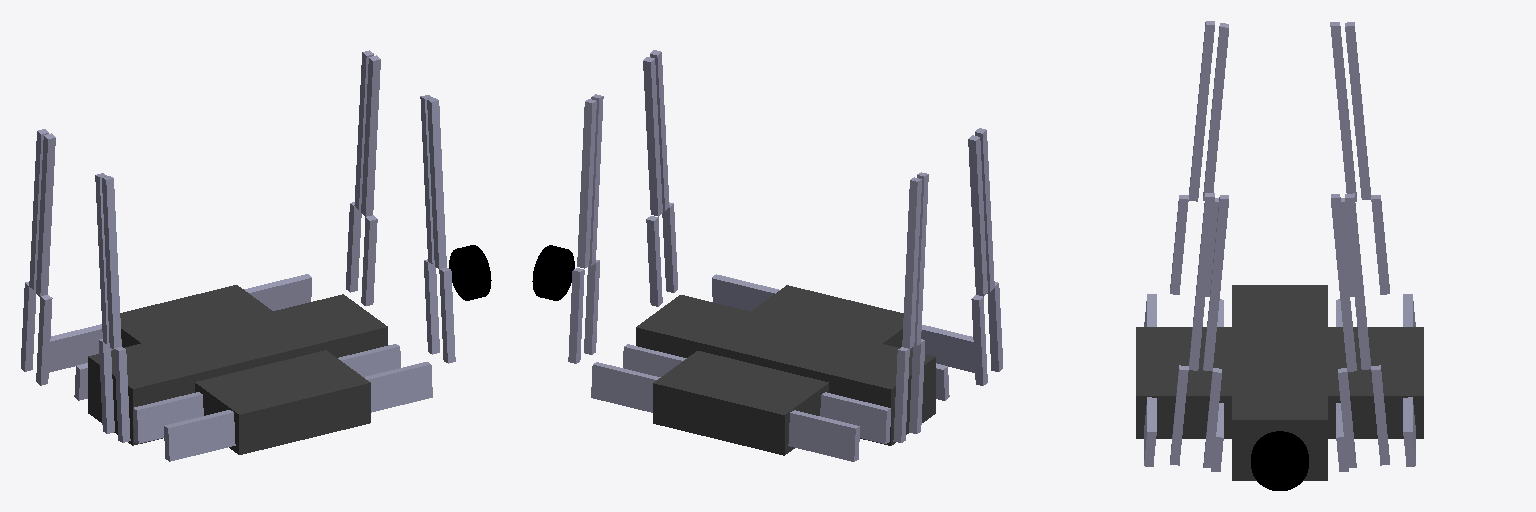
--- What the picture shows (computed from the rendered views, not written in the file) ---
Views: 3 orthographic renders of the robot side by side, from view 1: azimuth 30°, elevation 25°; view 2: azimuth 150°, elevation 25°; view 3: azimuth 270°, elevation 25°.
Robot: quadruped — 28 links, 27 joints (8 revolute, 8 continuous, 11 fixed); root link base_chassis_link; default pose: all joints at 0.
Links seen in each view (by area): view 1: base_chassis_link, chassis_right, chassis_left, lower_leg_back_rightR_link, lower_leg_front_rightR_link, lower_leg_back_leftR_link, lower_leg_front_leftR_link, eyes, upper_leg_front_rightR_link, upper_leg_back_rightR_link, lower_leg_back_leftL_link, lower_leg_front_leftL_link (+8 smaller); view 2: base_chassis_link, chassis_left, chassis_right, lower_leg_back_leftL_link, lower_leg_front_leftL_link, lower_leg_back_rightL_link, lower_leg_front_rightL_link, eyes, lower_leg_back_rightR_link, upper_leg_front_leftL_link, lower_leg_back_leftR_link, upper_leg_back_leftL_link (+8 smaller); view 3: base_chassis_link, eyes, chassis_right, chassis_left, lower_leg_back_rightR_link, lower_leg_back_leftL_link, lower_leg_front_leftR_link, lower_leg_front_rightR_link, lower_leg_front_leftL_link, lower_leg_front_rightL_link, lower_leg_back_leftR_link, lower_leg_back_rightL_link (+6 smaller).
Link boxes in pixels (x1=…): base_chassis_link: x1=88, y1=285, x2=387, y2=454; chassis_right: x1=133, y1=344, x2=432, y2=461; chassis_left: x1=49, y1=274, x2=311, y2=400; lower_leg_back_rightR_link: x1=102, y1=176, x2=121, y2=348; lower_leg_front_rightR_link: x1=427, y1=98, x2=446, y2=268; lower_leg_back_leftR_link: x1=36, y1=133, x2=55, y2=296; lower_leg_front_leftR_link: x1=361, y1=55, x2=380, y2=216; eyes: x1=449, y1=245, x2=491, y2=300; upper_leg_front_rightR_link: x1=439, y1=267, x2=455, y2=363; upper_leg_back_rightR_link: x1=114, y1=347, x2=130, y2=442; lower_leg_back_leftL_link: x1=29, y1=129, x2=48, y2=289; lower_leg_front_leftL_link: x1=354, y1=50, x2=373, y2=209; base_chassis_link: x1=636, y1=285, x2=935, y2=455; chassis_left: x1=591, y1=344, x2=890, y2=461; chassis_right: x1=712, y1=274, x2=974, y2=400; lower_leg_back_leftL_link: x1=902, y1=177, x2=921, y2=348; lower_leg_front_leftL_link: x1=577, y1=99, x2=596, y2=268; lower_leg_back_rightL_link: x1=968, y1=135, x2=987, y2=296; lower_leg_front_rightL_link: x1=643, y1=57, x2=662, y2=216; eyes: x1=532, y1=245, x2=574, y2=300; lower_leg_back_rightR_link: x1=975, y1=128, x2=994, y2=291; upper_leg_front_leftL_link: x1=568, y1=268, x2=584, y2=363; lower_leg_back_leftR_link: x1=914, y1=172, x2=928, y2=345; upper_leg_back_leftL_link: x1=893, y1=347, x2=909, y2=442; base_chassis_link: x1=1136, y1=285, x2=1423, y2=480; eyes: x1=1251, y1=431, x2=1308, y2=490; chassis_right: x1=1144, y1=294, x2=1223, y2=471; chassis_left: x1=1336, y1=294, x2=1415, y2=471; lower_leg_back_rightR_link: x1=1189, y1=21, x2=1214, y2=201; lower_leg_back_leftL_link: x1=1345, y1=22, x2=1370, y2=199; lower_leg_front_leftR_link: x1=1331, y1=194, x2=1356, y2=371; lower_leg_front_rightR_link: x1=1189, y1=193, x2=1214, y2=370; lower_leg_front_leftL_link: x1=1345, y1=193, x2=1370, y2=369; lower_leg_front_rightL_link: x1=1203, y1=195, x2=1228, y2=370; lower_leg_back_leftR_link: x1=1330, y1=22, x2=1356, y2=201; lower_leg_back_rightL_link: x1=1203, y1=23, x2=1228, y2=200.
Size in the robot's own frame: 0.525 by 0.3 by 0.3508 metres.
Meshes: 1 distinct files referenced, 0 mesh visuals loaded (none loaded); not drawn: 8 (reference not matched to a file when rendering).

The robot description file, URDF, robot "quadruped":
<?xml version="0.0" ?>
<!-- ======================================================================= -->
<!--LICENSE:                                                                 -->
<!--Copyright (c) 2017, Erwin Coumans                                        -->
<!--Google Inc.                                                              -->
<!--All rights reserved.                                                     -->
<!--                                                                         -->
<!--Redistribution and use in source and binary forms, with or without       -->
<!--modification, are permitted provided that the following conditions are   -->
<!--met:                                                                     -->
<!--                                                                         -->
<!--1. Redistributions or derived work must retain this copyright notice,    -->
<!--   this list of conditions and the following disclaimer.                 -->
<!--                                                                         -->
<!--2. Redistributions in binary form must reproduce the above copyright     -->
<!--   notice, this list of conditions and the following disclaimer in the   -->
<!--   documentation and/or other materials provided with the distribution.  -->
<!--                                                                         -->
<!--THIS SOFTWARE IS PROVIDED BY THE COPYRIGHT HOLDERS AND CONTRIBUTORS "AS  -->
<!--IS" AND ANY EXPRESS OR IMPLIED WARRANTIES, INCLUDING, BUT NOT LIMITED TO,-->
<!--THE IMPLIED WARRANTIES OF MERCHANTABILITY AND FITNESS FOR A PARTICULAR   -->
<!--PURPOSE ARE DISCLAIMED. IN NO EVENT SHALL THE COPYRIGHT HOLDER OR        -->
<!--CONTRIBUTORS BE LIABLE FOR ANY DIRECT, INDIRECT, INCIDENTAL, SPECIAL,    -->
<!--EXEMPLARY, OR CONSEQUENTIAL DAMAGES (INCLUDING, BUT NOT LIMITED TO,      -->
<!--PROCUREMENT OF SUBSTITUTE GOODS OR SERVICES; LOSS OF USE, DATA, OR       -->
<!--PROFITS; OR BUSINESS INTERRUPTION) HOWEVER CAUSED AND ON ANY THEORY OF   -->
<!--LIABILITY, WHETHER IN CONTRACT, STRICT LIABILITY, OR TORT (INCLUDING     -->
<!--NEGLIGENCE OR OTHERWISE) ARISING IN ANY WAY OUT OF THE USE OF THIS       -->
<!--SOFTWARE, EVEN IF ADVISED OF THE POSSIBILITY OF SUCH DAMAGE.             -->

<robot name="quadruped">
  <link name="base_chassis_link">
    <visual>
      <geometry>
        <box size=".33 0.10 .07"/>
      </geometry>
      <material name="black">
        <color rgba="0.3 0.3 0.3 1"/>
      </material>
    </visual>
    <visual>
			<origin rpy="0 0 0" xyz="0 0.10 0"/>
      <geometry>
        <box size=".17 0.10 .05"/>
      </geometry>
      <material name="black">
        <color rgba="0.3 0.3 0.3 1"/>
      </material>
    </visual>
		<visual>
			<origin rpy="0 0 0" xyz="0 -0.10 0"/>
      <geometry>
        <box size=".17 0.10 .05"/>
      </geometry>
      <material name="black">
        <color rgba="0.3 0.3 0.3 1"/>
      </material>
    </visual>

    <collision>
      <geometry>
       <box size=".33 0.10 .07"/>
      </geometry>
    </collision>
    <collision>
			<origin rpy="0 0 0" xyz="0 0.10 0"/>
      <geometry>
       <box size=".17 0.10 .05"/>
      </geometry>
    </collision>
    <collision>
			<origin rpy="0 0 0" xyz="0 -0.10 0"/>
      <geometry>
       <box size=".17 0.10 .05"/>
      </geometry>
    </collision>

    <inertial>
      <mass value="3"/>
      <inertia ixx="1.0" ixy="0.0" ixz="0.0" iyy="1.0" iyz="0.0" izz="1.0"/>
    </inertial>
  </link>
  <link name="eyes">
    <inertial>
      <mass value="0.0"/>
      <inertia ixx="0.0" ixy="0.0" ixz="0.0" iyy="0.0" iyz="0.0" izz="0.0"/>
    </inertial>
    <visual>
      <origin xyz="0 0 0" rpy="0 1.5708 0" />
      <geometry>
        <cylinder radius="0.03" length="0.02"/>
      </geometry>
      <material name="Black">
        <color rgba="0 0 0 1.0"/>
      </material>
    </visual>
  </link>
  <joint name="eyes_joint" type="fixed">
    <!-- camera is located at front bar -->
    <origin rpy="0 0 0" xyz="0.3 0 0.05"/>
    <parent link="base_chassis_link"/>
    <child link="eyes"/>
  </joint>
  <link name="chassis_right">
    <visual>
			<origin rpy="0 0 0" xyz="0 0.035 0"/>
      <geometry>
       <box size=".34 0.01 .04"/>
      </geometry>
			<material name="grey">
        <color rgba="0.65 0.65 0.75 1"/>
      </material>    </visual>
    <visual>
			<origin rpy="0 0 0" xyz="0 -0.035 0"/>
      <geometry>
       <box size=".34 0.01 .04"/>
      </geometry>
			<material name="grey">
        <color rgba="0.65 0.65 0.75 1"/>
      </material>    
    </visual>
    <collision>
			<origin rpy="0 0 0" xyz="0 0.035 0"/>
      <geometry>
       <box size=".34 0.01 .04"/>
      </geometry>
    </collision>
    <collision>
			<origin rpy="0 0 0" xyz="0 -0.035 0"/>
      <geometry>
       <box size=".34 0.01 .04"/>
      </geometry>
    </collision>
    <inertial>
      <mass value=".1"/>
      <inertia ixx="1.0" ixy="0.0" ixz="0.0" iyy="1.0" iyz="0.0" izz="1.0"/>
    </inertial>
  </link>

  <joint name="chassis_right_center" type="fixed">
    <axis xyz="0 0 1"/>
    <parent link="base_chassis_link"/>
    <child link="chassis_right"/>
    <origin rpy="-0.0872665 0 0" xyz="0.0 -0.10 0.0"/>
    <limit effort="100" velocity="100"/>
    <joint_properties damping="0.0" friction="0.0"/>
  </joint>

  <link name="chassis_left">
    <visual>
			<origin rpy="0 0 0" xyz="0 0.035 0"/>
      <geometry>
       <box size=".34 0.01 .04"/>
      </geometry>
			<material name="grey">
        <color rgba="0.65 0.65 0.75 1"/>
      </material>    </visual>
    <visual>
			<origin rpy="0 0 0" xyz="0 -0.035 0"/>
      <geometry>
       <box size=".34 0.01 .04"/>
      </geometry>
			<material name="grey">
        <color rgba="0.65 0.65 0.75 1"/>
      </material>    </visual>
    <collision>
			<origin rpy="0 0 0" xyz="0 0.035 0"/>
      <geometry>
       <box size=".34 0.01 .04"/>
      </geometry>
    </collision>
    <collision>
			<origin rpy="0 0 0" xyz="0 -0.035 0"/>
      <geometry>
       <box size=".34 0.01 .04"/>
      </geometry>
    </collision>
    <inertial>
      <mass value=".1"/>
      <inertia ixx="1.0" ixy="0.0" ixz="0.0" iyy="1.0" iyz="0.0" izz="1.0"/>
    </inertial>
  </link>

  <joint name="chassis_left_center" type="fixed">
    <axis xyz="0 0 1"/>
    <parent link="base_chassis_link"/>
    <child link="chassis_left"/>
    <origin rpy="0.0872665 0 0" xyz="0.0 0.10 0.0"/>
    <limit effort="100" velocity="100"/>
    <joint_properties damping="0.0" friction="0.0"/>
  </joint>

  
  
  <link name="motor_front_rightR_link">
    <visual>
      <geometry>
        <mesh filename="tmotor3.obj" scale="1 1 1"/>
      </geometry>
      <material name="white">
        <color rgba="1 1 1 1"/>
      </material>
    </visual>
    <collision>
      <geometry>
        <cylinder length="0.026" radius="0.0434"/>
      </geometry>
    </collision>
    <inertial>
      <mass value="0.25"/>
      <inertia ixx="1.0" ixy="0.0" ixz="0.0" iyy="1.0" iyz="0.0" izz="1.0"/>
    </inertial>
  </link>
  <joint name="motor_front_rightR_joint" type="continuous">
    <axis xyz="0 0 1"/>
    <parent link="chassis_right"/>
    <child link="motor_front_rightR_link"/>
    <origin rpy="1.57075 0 0" xyz="0.21 -0.025 0"/>
    <limit effort="100" velocity="100"/>
    <joint_properties damping="0.0" friction="0.0"/>
  </joint>


	<link name="motor_front_rightL_link">
    <visual>
      <geometry>
        <mesh filename="tmotor3.obj" scale="1 1 1"/>
      </geometry>
      <material name="white">
        <color rgba="1 1 1 1"/>
      </material>
    </visual>
    <collision>
      <geometry>
        <cylinder length="0.026" radius="0.0434"/>
      </geometry>
    </collision>
    <inertial>
      <mass value="0.25"/>
      <inertia ixx="1.0" ixy="0.0" ixz="0.0" iyy="1.0" iyz="0.0" izz="1.0"/>
    </inertial>
  </link>
  <joint name="motor_front_rightL_joint" type="continuous">
    <axis xyz="0 0 1"/>
    <parent link="chassis_right"/>
    <child link="motor_front_rightL_link"/>
    <origin rpy="1.57075 0 3.141592" xyz="0.21 0.04 0"/>
    <limit effort="100" velocity="100"/>
    <joint_properties damping="0.0" friction="0.0"/>
  </joint>
  
  
  <link name="motor_front_leftL_link">
    <visual>
      <geometry>
        <mesh filename="tmotor3.obj" scale="1 1 1"/>
      </geometry>
      <material name="white">
        <color rgba="1 1 1 1"/>
      </material>
    </visual>
    <collision>
      <geometry>
        <cylinder length="0.026" radius="0.0434"/>
      </geometry>
    </collision>
    <inertial>
      <mass value="0.25"/>
      <inertia ixx="1.0" ixy="0.0" ixz="0.0" iyy="1.0" iyz="0.0" izz="1.0"/>
    </inertial>
  </link>
  <joint name="motor_front_leftL_joint" type="continuous">
    <axis xyz="0 0 1"/>
    <parent link="chassis_left"/>
    <child link="motor_front_leftL_link"/>
    <origin rpy="1.57075 0 3.141592" xyz="0.21 0.025 0"/>
    <limit effort="100" velocity="100"/>
    <joint_properties damping="0.0" friction="0.0"/>
  </joint>


	<link name="motor_front_leftR_link">
    <visual>
      <geometry>
        <mesh filename="tmotor3.obj" scale="1 1 1"/>
      </geometry>
      <material name="white">
        <color rgba="1 1 1 1"/>
      </material>
    </visual>
    <inertial>
      <mass value="0.25"/>
      <inertia ixx="1.0" ixy="0.0" ixz="0.0" iyy="1.0" iyz="0.0" izz="1.0"/>
    </inertial>
  </link>
  <joint name="motor_front_leftR_joint" type="continuous">
    <axis xyz="0 0 1"/>
    <parent link="chassis_left"/>
    <child link="motor_front_leftR_link"/>
    <origin rpy="1.57075 0 0" xyz="0.21 -0.04 0"/>
    <limit effort="100" velocity="100"/>
    <joint_properties damping="0.0" friction="0.0"/>
  </joint>
  
  
  <link name="motor_back_rightR_link">
    <visual>
      <geometry>
        <mesh filename="tmotor3.obj" scale="1 1 1"/>
      </geometry>
      <material name="white">
        <color rgba="1 1 1 1"/>
      </material>
    </visual>
    <collision>
      <geometry>
        <cylinder length="0.026" radius="0.0434"/>
      </geometry>
    </collision>
    <inertial>
      <mass value="0.25"/>
      <inertia ixx="1.0" ixy="0.0" ixz="0.0" iyy="1.0" iyz="0.0" izz="1.0"/>
    </inertial>
  </link>
  <joint name="motor_back_rightR_joint" type="continuous">
    <axis xyz="0 0 1"/>
    <parent link="chassis_right"/>
    <child link="motor_back_rightR_link"/>
    <origin rpy="1.57075 0 0" xyz="-0.21 -0.025 0"/>
    <limit effort="100" velocity="100"/>
    <joint_properties damping="0.0" friction="0.0"/>
  </joint>


	<link name="motor_back_rightL_link">
    <visual>
      <geometry>
        <mesh filename="tmotor3.obj" scale="1 1 1"/>
      </geometry>
      <material name="white">
        <color rgba="1 1 1 1"/>
      </material>
    </visual>
    <collision>
      <geometry>
        <cylinder length="0.026" radius="0.0434"/>
      </geometry>
    </collision>
    <inertial>
      <mass value="0.25"/>
      <inertia ixx="1.0" ixy="0.0" ixz="0.0" iyy="1.0" iyz="0.0" izz="1.0"/>
    </inertial>
  </link>
  <joint name="motor_back_rightL_joint" type="continuous">
    <axis xyz="0 0 1"/>
    <parent link="chassis_right"/>
    <child link="motor_back_rightL_link"/>
    <origin rpy="1.57075 0 3.141592" xyz="-0.21 0.04 0"/>
    <limit effort="100" velocity="100"/>
    <joint_properties damping="0.0" friction="0.0"/>
  </joint>
  
  
  <link name="motor_back_leftL_link">
    <visual>
      <geometry>
        <mesh filename="tmotor3.obj" scale="1 1 1"/>
      </geometry>
      <material name="white">
        <color rgba="1 1 1 1"/>
      </material>
    </visual>
    <collision>
      <geometry>
        <cylinder length="0.026" radius="0.0434"/>
      </geometry>
    </collision>
    <inertial>
      <mass value="0.25"/>
      <inertia ixx="1.0" ixy="0.0" ixz="0.0" iyy="1.0" iyz="0.0" izz="1.0"/>
    </inertial>
  </link>
  <joint name="motor_back_leftL_joint" type="continuous">
    <axis xyz="0 0 1"/>
    <parent link="chassis_left"/>
    <child link="motor_back_leftL_link"/>
    <origin rpy="1.57075 0 3.141592" xyz="-0.21 0.025 0"/>
    <limit effort="100" velocity="100"/>
    <joint_properties damping="0.0" friction="0.0"/>
  </joint>


	<link name="motor_back_leftR_link">
    <visual>
      <geometry>
        <mesh filename="tmotor3.obj" scale="1 1 1"/>
      </geometry>
      <material name="white">
        <color rgba="1 1 1 1"/>
      </material>
    </visual>
    <collision>
      <geometry>
        <cylinder length="0.026" radius="0.0434"/>
      </geometry>
    </collision>
    <inertial>
      <mass value="0.25"/>
      <inertia ixx="1.0" ixy="0.0" ixz="0.0" iyy="1.0" iyz="0.0" izz="1.0"/>
    </inertial>
  </link>
  <joint name="motor_back_leftR_joint" type="continuous">
    <axis xyz="0 0 1"/>
    <parent link="chassis_left"/>
    <child link="motor_back_leftR_link"/>
    <origin rpy="1.57075 0 0" xyz="-0.21 -0.04 0"/>
    <limit effort="100" velocity="100"/>
    <joint_properties damping="0.0" friction="0.0"/>
  </joint>

	<link name="upper_leg_front_rightR_link">
    <visual>
      <geometry>
        <box size=".01 0.01 .11"/>
      </geometry>
      <material name="grey">
        <color rgba="0.65 0.65 0.75 1"/>
      </material>
    </visual>
    <collision>
      <geometry>
        <box size=".01 0.01 .11"/>
      </geometry>
    </collision>
    <inertial>
      <mass value="0.05"/>
      <inertia ixx="1.0" ixy="0.0" ixz="0.0" iyy="1.0" iyz="0.0" izz="1.0"/>
    </inertial>
  </link>
  <joint name="hip_front_rightR_link" type="fixed">
    <axis xyz="0 0 1"/>
    <parent link="motor_front_rightR_link"/>
    <child link="upper_leg_front_rightR_link"/>
    <origin rpy="-1.57075 0 0" xyz="0.0 0.06 -0.015"/>
    <limit effort="100" velocity="100"/>
    <joint_properties damping="0.0" friction="0.0"/>
  </joint>

	<link name="lower_leg_front_rightR_link">
	<contact>
		<stiffness value="10000"/>
		<damping value="10"/>
		<lateral_friction value="1"/>
  </contact>

    <visual>
    	<origin rpy="0.0 0 0" xyz="0 0 .1"/>
      <geometry>
        <box size=".01 0.01 .2"/>
      </geometry>
      <material name="grey">
        <color rgba="0.65 0.65 0.75 1"/>
      </material>
    </visual>
    <collision>
    	<origin rpy="0.0 0 0" xyz="0 0 .1"/>
      <geometry>
        <box size=".01 0.01 .2"/>
      </geometry>
    </collision>
    <inertial>
      <mass value="0.05"/>
      <inertia ixx="1.0" ixy="0.0" ixz="0.0" iyy="1.0" iyz="0.0" izz="1.0"/>
    </inertial>
  </link>
  <joint name="knee_front_rightR_link" type="revolute">
    <axis xyz="0 1 0"/>
    <parent link="upper_leg_front_rightR_link"/>
    <child link="lower_leg_front_rightR_link"/>
    <origin rpy="0 0 0" xyz="0.0 0.01 .055"/>
    <limit effort="100" velocity="100"/>
    <joint_properties damping="0.0" friction="0.0"/>
  </joint>

    
  <link name="upper_leg_front_rightL_link">
    <visual>
      <geometry>
        <box size=".01 0.01 .11"/>
      </geometry>
      <material name="grey">
        <color rgba="0.65 0.65 0.75 1"/>
      </material>
    </visual>
    <collision>
      <geometry>
        <box size=".01 0.01 .11"/>
      </geometry>
    </collision>
    <inertial>
      <mass value="0.05"/>
      <inertia ixx="1.0" ixy="0.0" ixz="0.0" iyy="1.0" iyz="0.0" izz="1.0"/>
    </inertial>
  </link>
  <joint name="motor_front_rightL_link" type="fixed">
    <axis xyz="0 0 1"/>
    <parent link="motor_front_rightL_link"/>
    <child link="upper_leg_front_rightL_link"/>
    <origin rpy="-1.57075 0 0" xyz="0.0 0.06 -0.015"/>
    <limit effort="100" velocity="100"/>
    <joint_properties damping="0.0" friction="0.0"/>
  </joint>

  

  
  <link name="lower_leg_front_rightL_link">
	<contact>
		<stiffness value="10000"/>
		<damping value="10"/>
		<lateral_friction value="1"/>
  </contact>

    <visual>
    	<origin rpy="0.0 0 0" xyz="0 0 .1"/>
      <geometry>
        <box size=".01 0.01 .198"/>
      </geometry>
      <material name="grey">
        <color rgba="0.65 0.65 0.75 1"/>
      </material>
    </visual>
    <collision>
    	<origin rpy="0.0 0 0" xyz="0 0 .1"/>
      <geometry>
        <box size=".01 0.01 .198"/>
      </geometry>
    </collision>
    <inertial>
      <mass value="0.05"/>
      <inertia ixx="1.0" ixy="0.0" ixz="0.0" iyy="1.0" iyz="0.0" izz="1.0"/>
    </inertial>
  </link>
  <joint name="knee_front_rightL_link" type="revolute">
    <axis xyz="0 1 0"/>
    <parent link="upper_leg_front_rightL_link"/>
    <child link="lower_leg_front_rightL_link"/>
    <origin rpy="0 0 0" xyz="0.0 0.01 .055"/>
    <limit effort="100" velocity="100"/>
    <joint_properties damping="0.0" friction="0.0"/>
  </joint>


	<link name="upper_leg_front_leftR_link">
    <visual>
      <geometry>
        <box size=".01 0.01 .11"/>
      </geometry>
      <material name="grey">
        <color rgba="0.65 0.65 0.75 1"/>
      </material>
    </visual>
    <collision>
      <geometry>
        <box size=".01 0.01 .11"/>
      </geometry>
    </collision>
    <inertial>
      <mass value="0.05"/>
      <inertia ixx="1.0" ixy="0.0" ixz="0.0" iyy="1.0" iyz="0.0" izz="1.0"/>
    </inertial>
  </link>
  <joint name="hip_front_leftR_link" type="fixed">
    <axis xyz="0 0 1"/>
    <parent link="motor_front_leftR_link"/>
    <child link="upper_leg_front_leftR_link"/>
    <origin rpy="-1.57075 0 0" xyz="0.0 0.06 -0.015"/>
    <limit effort="100" velocity="100"/>
    <joint_properties damping="0.0" friction="0.0"/>
  </joint>


	<link name="lower_leg_front_leftR_link">
	<contact>
		<stiffness value="10000"/>
		<damping value="10"/>
		<lateral_friction value="1"/>
  </contact>

    <visual>
    	<origin rpy="0.0 0.0 0" xyz="0 0 .1"/>
      <geometry>
        <box size=".01 0.01 .2"/>
      </geometry>
      <material name="grey">
        <color rgba="0.65 0.65 0.75 1"/>
      </material>
    </visual>
    <collision>
    	<origin rpy="0.0 0.0 0" xyz="0 0 .1"/>
      <geometry>
        <box size=".01 0.01 .2"/>
      </geometry>
    </collision>
    <inertial>
      <mass value="0.05"/>
      <inertia ixx="1.0" ixy="0.0" ixz="0.0" iyy="1.0" iyz="0.0" izz="1.0"/>
    </inertial>
  </link>
  <joint name="knee_front_leftR_link" type="revolute">
    <axis xyz="0 1 0"/>
    <parent link="upper_leg_front_leftR_link"/>
    <child link="lower_leg_front_leftR_link"/>
    <origin rpy="0 0 0" xyz="0.0 0.01 .055"/>
    <limit effort="100" velocity="100"/>
    <joint_properties damping="0.0" friction="0.0"/>
  </joint>



   <link name="upper_leg_front_leftL_link">
    <visual>
      <geometry>
        <box size=".01 0.01 .11"/>
      </geometry>
      <material name="grey">
        <color rgba="0.65 0.65 0.75 1"/>
      </material>
    </visual>
    <collision>
      <geometry>
        <box size=".01 0.01 .11"/>
      </geometry>
    </collision>
    <inertial>
      <mass value="0.05"/>
      <inertia ixx="1.0" ixy="0.0" ixz="0.0" iyy="1.0" iyz="0.0" izz="1.0"/>
    </inertial>
  </link>
  <joint name="motor_front_leftL_link" type="fixed">
    <axis xyz="0 0 1"/>
    <parent link="motor_front_leftL_link"/>
    <child link="upper_leg_front_leftL_link"/>
    <origin rpy="-1.57075 0 0" xyz="0.0 0.06 -0.015"/>
    <limit effort="100" velocity="100"/>
    <joint_properties damping="0.0" friction="0.0"/>
  </joint>


  <link name="lower_leg_front_leftL_link">
	<contact>
		<stiffness value="10000"/>
		<damping value="10"/>
		<lateral_friction value="1"/>
  </contact>

    <visual>
    	<origin rpy="0.0 0.0 0" xyz="0 0 .1"/>
      <geometry>
        <box size=".01 0.01 .198"/>
      </geometry>
      <material name="grey">
        <color rgba="0.65 0.65 0.75 1"/>
      </material>
    </visual>
    <collision>
    	<origin rpy="0.0 0.0 0" xyz="0 0 .1"/>
      <geometry>
        <box size=".01 0.01 .198"/>
      </geometry>
    </collision>
    <inertial>
      <mass value="0.05"/>
      <inertia ixx="1.0" ixy="0.0" ixz="0.0" iyy="1.0" iyz="0.0" izz="1.0"/>
    </inertial>
  </link>
  <joint name="knee_front_leftL_link" type="revolute">
    <axis xyz="0 1 0"/>
    <parent link="upper_leg_front_leftL_link"/>
    <child link="lower_leg_front_leftL_link"/>
    <origin rpy="0 0 0" xyz="0.0 0.01 .055"/>
    <limit effort="100" velocity="100"/>
    <joint_properties damping="0.0" friction="0.0"/>
  </joint>
  
	<link name="upper_leg_back_rightR_link">
    <visual>
      <geometry>
        <box size=".01 0.01 .11"/>
      </geometry>
      <material name="grey">
        <color rgba="0.65 0.65 0.75 1"/>
      </material>
    </visual>
    <collision>
      <geometry>
        <box size=".01 0.01 .11"/>
      </geometry>
    </collision>
    <inertial>
      <mass value="0.05"/>
      <inertia ixx="1.0" ixy="0.0" ixz="0.0" iyy="1.0" iyz="0.0" izz="1.0"/>
    </inertial>
  </link>
  <joint name="hip_rightR_link" type="fixed">
    <axis xyz="0 0 1"/>
    <parent link="motor_back_rightR_link"/>
    <child link="upper_leg_back_rightR_link"/>
    <origin rpy="-1.57075 0 0" xyz="0.0 0.06 -0.015"/>
    <limit effort="100" velocity="100"/>
    <joint_properties damping="0.0" friction="0.0"/>
  </joint>

	<link name="lower_leg_back_rightR_link">
	<contact>
		<stiffness value="10000"/>
		<damping value="10"/>
		<lateral_friction value="1"/>
  </contact>

    <visual>
    	<origin rpy="0.0 0 0" xyz="0 0 .1"/>
      <geometry>
        <box size=".01 0.01 .2032"/>
      </geometry>
      <material name="grey">
        <color rgba="0.65 0.65 0.75 1"/>
      </material>
    </visual>
    <collision>
    	<origin rpy="0.0 0 0" xyz="0 0 .1"/>
      <geometry>
        <box size=".01 0.01 .2032"/>
      </geometry>
    </collision>
    <inertial>
      <mass value="0.05"/>
      <inertia ixx="1.0" ixy="0.0" ixz="0.0" iyy="1.0" iyz="0.0" izz="1.0"/>
    </inertial>
  </link>
  <joint name="knee_back_rightR_link" type="revolute">
    <axis xyz="0 1 0"/>
    <parent link="upper_leg_back_rightR_link"/>
    <child link="lower_leg_back_rightR_link"/>
    <origin rpy="0 0 0" xyz="0.0 0.01 .055"/>
    <limit effort="100" velocity="100"/>
    <joint_properties damping="0.0" friction="0.0"/>
  </joint>

    
  <link name="upper_leg_back_rightL_link">
    <visual>
      <geometry>
        <box size=".01 0.01 .11"/>
      </geometry>
      <material name="grey">
        <color rgba="0.65 0.65 0.75 1"/>
      </material>
    </visual>
    <collision>
      <geometry>
        <box size=".01 0.01 .11"/>
      </geometry>
    </collision>
    <inertial>
      <mass value="0.05"/>
      <inertia ixx="1.0" ixy="0.0" ixz="0.0" iyy="1.0" iyz="0.0" izz="1.0"/>
    </inertial>
  </link>
  <joint name="motor_back_rightL_link" type="fixed">
    <axis xyz="0 0 1"/>
    <parent link="motor_back_rightL_link"/>
    <child link="upper_leg_back_rightL_link"/>
    <origin rpy="-1.57075 0 0" xyz="0.0 0.06 -0.015"/>
    <limit effort="100" velocity="100"/>
    <joint_properties damping="0.0" friction="0.0"/>
  </joint>

  

  
  <link name="lower_leg_back_rightL_link">
	<contact>
		<stiffness value="10000"/>
		<damping value="10"/>
		<lateral_friction value="1"/>
  </contact>
  
    <visual>
    	<origin rpy="0.0 0 0" xyz="0 0 .1"/>
      <geometry>
        <box size=".01 0.01 .2"/>
      </geometry>
      <material name="grey">
        <color rgba="0.65 0.65 0.75 1"/>
      </material>
    </visual>
    <collision>
    	<origin rpy="0.0 0 0" xyz="0 0 .1"/>
      <geometry>
        <box size=".01 0.01 .2"/>
      </geometry>
    </collision>
    <inertial>
      <mass value="0.05"/>
      <inertia ixx="1.0" ixy="0.0" ixz="0.0" iyy="1.0" iyz="0.0" izz="1.0"/>
    </inertial>
  </link>
  <joint name="knee_back_rightL_link" type="revolute">
    <axis xyz="0 1 0"/>
    <parent link="upper_leg_back_rightL_link"/>
    <child link="lower_leg_back_rightL_link"/>
    <origin rpy="0 0 0" xyz="0.0 0.01 .055"/>
    <limit effort="100" velocity="100"/>
    <joint_properties damping="0.0" friction="0.0"/>
  </joint>



	<link name="upper_leg_back_leftR_link">
    <visual>
      <geometry>
        <box size=".01 0.01 .11"/>
      </geometry>
      <material name="grey">
        <color rgba="0.65 0.65 0.75 1"/>
      </material>
    </visual>
    <collision>
      <geometry>
        <box size=".01 0.01 .11"/>
      </geometry>
    </collision>
    <inertial>
      <mass value="0.05"/>
      <inertia ixx="1.0" ixy="0.0" ixz="0.0" iyy="1.0" iyz="0.0" izz="1.0"/>
    </inertial>
  </link>
  <joint name="hip_leftR_link" type="fixed">
    <axis xyz="0 0 1"/>
    <parent link="motor_back_leftR_link"/>
    <child link="upper_leg_back_leftR_link"/>
    <origin rpy="-1.57075 0 0" xyz="0.0 0.06 -0.015"/>
    <limit effort="100" velocity="100"/>
    <joint_properties damping="0.0" friction="0.0"/>
  </joint>

<link name="lower_leg_back_leftR_link">
	<contact>
		<stiffness value="10000"/>
		<damping value="10"/>
		<lateral_friction value="1"/>
  </contact>

    <visual>
    	<origin rpy="0.0 0 0" xyz="0 0 .1"/>
      <geometry>
        <box size=".01 0.01 .2032"/>
      </geometry>
      <material name="grey">
        <color rgba="0.65 0.65 0.75 1"/>
      </material>
    </visual>
    <collision>
    	<origin rpy="0.0 0 0" xyz="0 0 .1"/>
      <geometry>
        <box size=".01 0.01 .2032"/>
      </geometry>
    </collision>
    <inertial>
      <mass value="0.05"/>
      <inertia ixx="1.0" ixy="0.0" ixz="0.0" iyy="1.0" iyz="0.0" izz="1.0"/>
    </inertial>
  </link>
  <joint name="knee_back_leftR_link" type="revolute">
    <axis xyz="0 1 0"/>
    <parent link="upper_leg_back_leftR_link"/>
    <child link="lower_leg_back_leftR_link"/>
    <origin rpy="0 0 0" xyz="0.0 0.01 .055"/>
    <limit effort="100" velocity="100"/>
    <joint_properties damping="0.0" friction="0.0"/>
  </joint>
  
   <link name="upper_leg_back_leftL_link">
    <visual>
      <geometry>
        <box size=".01 0.01 .11"/>
      </geometry>
      <material name="grey">
        <color rgba="0.65 0.65 0.75 1"/>
      </material>
    </visual>
    <collision>
      <geometry>
        <box size=".01 0.01 .11"/>
      </geometry>
    </collision>
    <inertial>
      <mass value="0.05"/>
      <inertia ixx="1.0" ixy="0.0" ixz="0.0" iyy="1.0" iyz="0.0" izz="1.0"/>
    </inertial>
  </link>
  <joint name="motor_back_leftL_link" type="fixed">
    <axis xyz="0 0 1"/>
    <parent link="motor_back_leftL_link"/>
    <child link="upper_leg_back_leftL_link"/>
    <origin rpy="-1.57075 0 0" xyz="0.0 0.06 -0.015"/>
    <limit effort="100" velocity="100"/>
    <joint_properties damping="0.0" friction="0.0"/>
  </joint>

 
  <link name="lower_leg_back_leftL_link">
	<contact>
		<stiffness value="10000"/>
		<damping value="10"/>
		<lateral_friction value="1"/>
  </contact>

    <visual>
    	<origin rpy="0.0 0 0" xyz="0 0 .1"/>
      <geometry>
        <box size=".01 0.01 .2"/>
      </geometry>
      <material name="grey">
        <color rgba="0.65 0.65 0.75 1"/>
      </material>
    </visual>
    <collision>
    	<origin rpy="0.0 0 0" xyz="0 0 .1"/>
      <geometry>
        <box size=".01 0.01 .2"/>
      </geometry>
    </collision>
    <inertial>
      <mass value="0.05"/>
      <inertia ixx="1.0" ixy="0.0" ixz="0.0" iyy="1.0" iyz="0.0" izz="1.0"/>
    </inertial>
  </link>
  <joint name="knee_back_leftL_link" type="revolute">
    <axis xyz="0 1 0"/>
    <parent link="upper_leg_back_leftL_link"/>
    <child link="lower_leg_back_leftL_link"/>
    <origin rpy="0 0 0" xyz="0.0 0.01 .055"/>
    <limit effort="100" velocity="100"/>
    <joint_properties damping="0.0" friction="0.0"/>
  </joint>
 
</robot>
